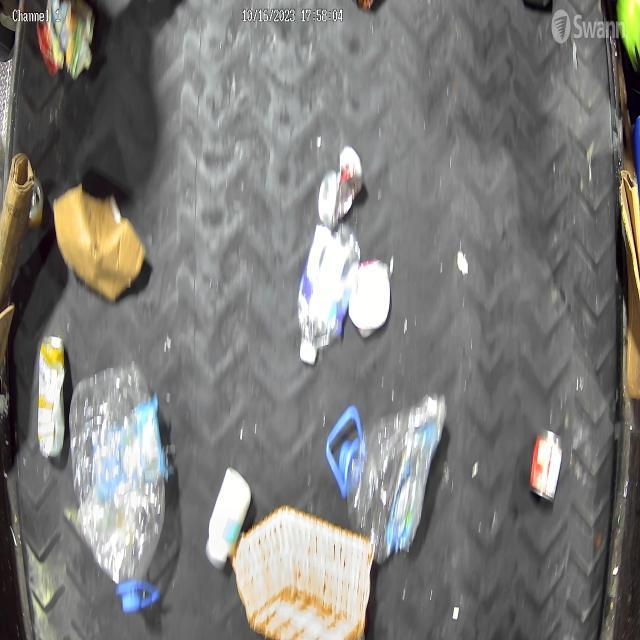can: (318, 145, 363, 228), (37, 336, 66, 460), (528, 426, 564, 506), (28, 176, 44, 228)
non_white_jug: (297, 222, 360, 362)
plastic_bottle: (70, 362, 167, 614), (326, 392, 448, 564)
